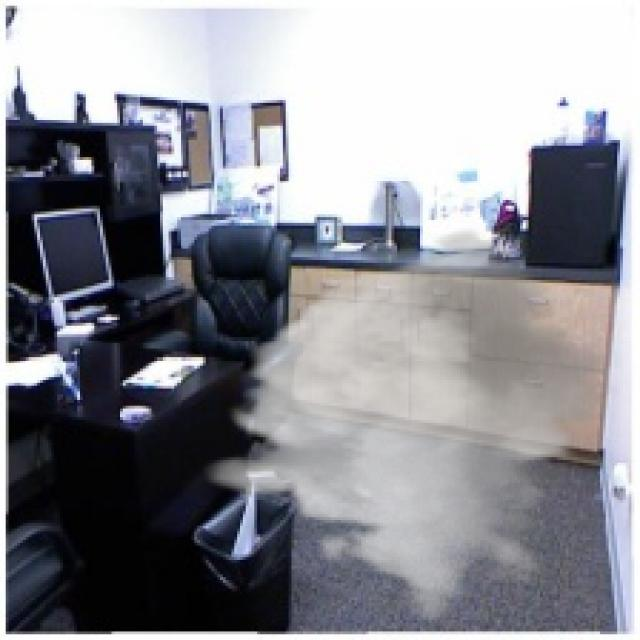smoke: (203, 226, 623, 623)
